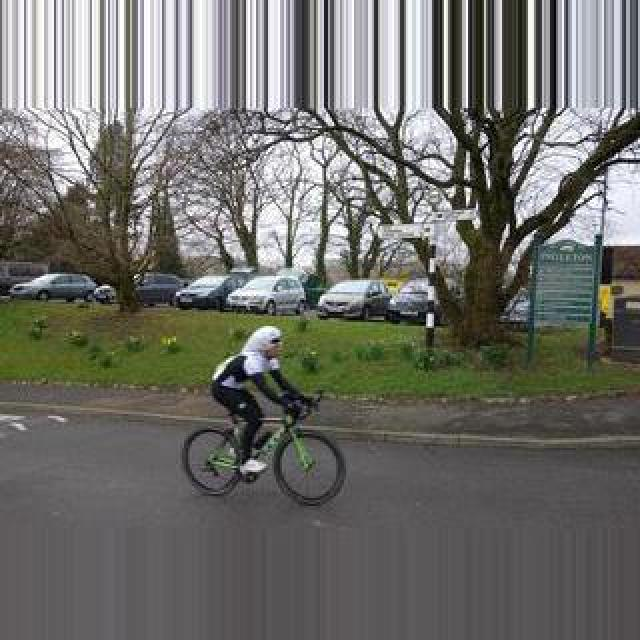Bus-Bike: (226, 274, 308, 316), (318, 280, 394, 320), (174, 274, 254, 310), (10, 274, 100, 302), (384, 278, 430, 324)
MC-Bike: (210, 326, 312, 474)
Person: (180, 394, 346, 502)
